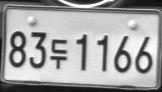1: (73, 33, 92, 71), (94, 34, 111, 72)
3: (29, 31, 47, 69)
6: (113, 35, 132, 73), (134, 36, 153, 74)
8: (7, 30, 27, 68)
두: (49, 38, 67, 70)
